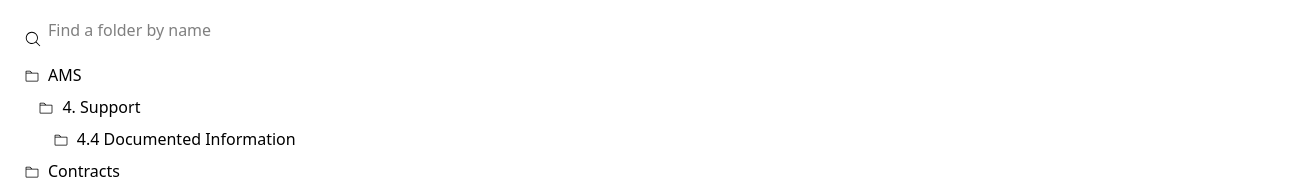
Test: FolderPicker › finds a folder by typing part of its name and shows where it is
The width and height of the screenshot is (1304, 195).
In the search field: (652, 30) [12,12,1292,48], type "documented"
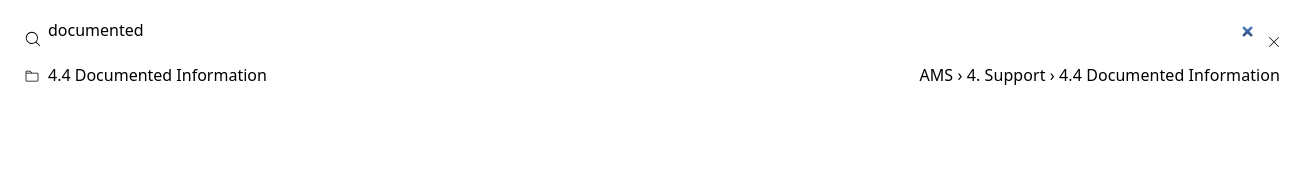
Expected: the option shows "4.4 Documented Information", [16,60,1288,92]
Expected: the option shows "AMS › 4. Support", [16,60,1288,92]
Replace the text in the search field with "zzz": (652, 30) [12,12,1292,48]
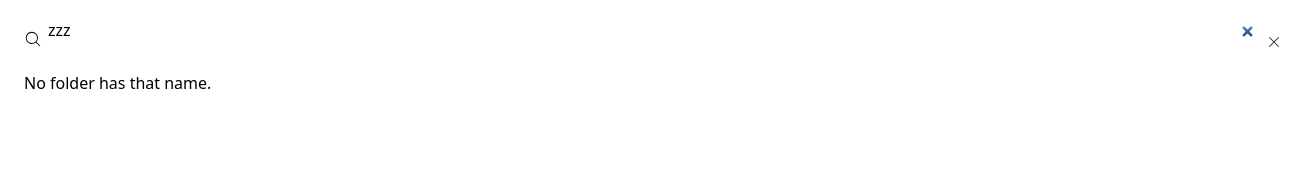
Expected: the list item "No folder has that name." is shown, [24,72,211,94]
